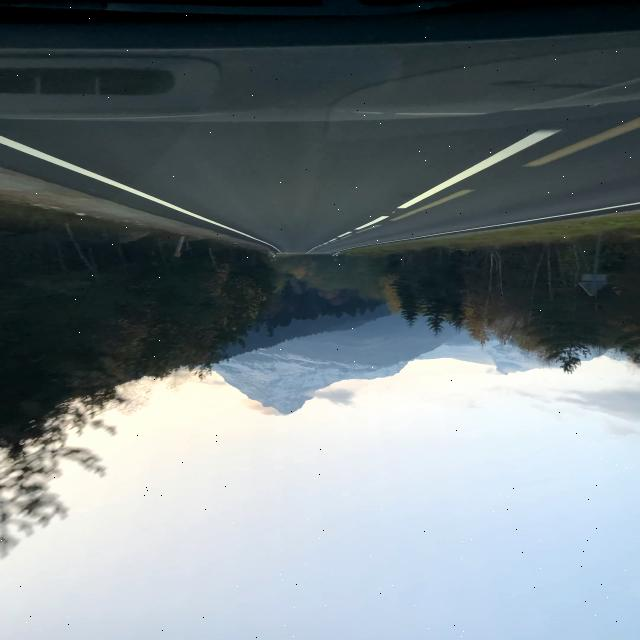lane: (2, 137, 277, 249), (398, 130, 560, 209), (524, 119, 640, 166)
road: (1, 3, 639, 253)
